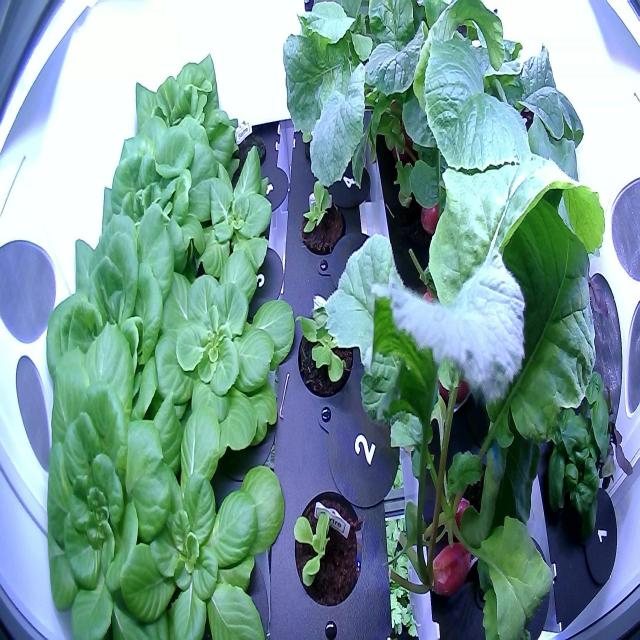pod: (232, 120, 269, 174)
young: (36, 318, 191, 640), (33, 203, 197, 466), (110, 401, 287, 640), (134, 244, 297, 471), (94, 113, 227, 280), (123, 46, 240, 180), (184, 137, 285, 285), (286, 479, 369, 618), (288, 295, 361, 413), (295, 175, 350, 260)
